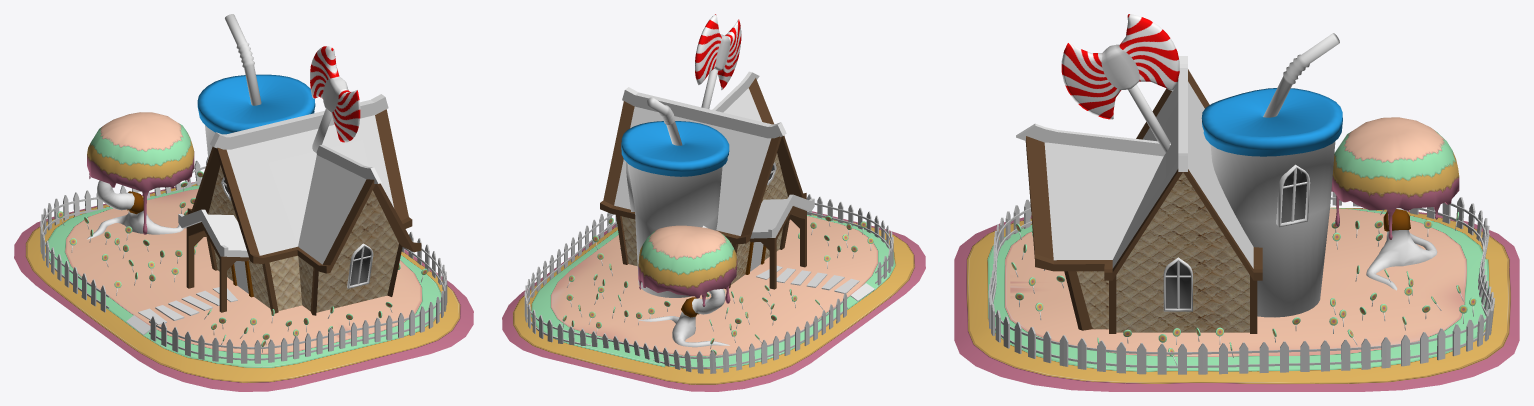
The model's file is CandyHouse.fbx.
3 views of the same model, side by side, from view 1: azimuth 30°, elevation 25°; view 2: azimuth 150°, elevation 25°; view 3: azimuth 270°, elevation 25° (orthographic). The views are drawn at different scales.
Visible parts, largest first — view 1: Plane; view 2: Plane; view 3: Plane.
Part boxes in pixels (left/top/right/bottom): Plane: left=14, top=14, right=473, bottom=391; Plane: left=502, top=14, right=925, bottom=391; Plane: left=954, top=14, right=1519, bottom=391.
Size of the model in its own units: 2623 by 2071 by 3407.
